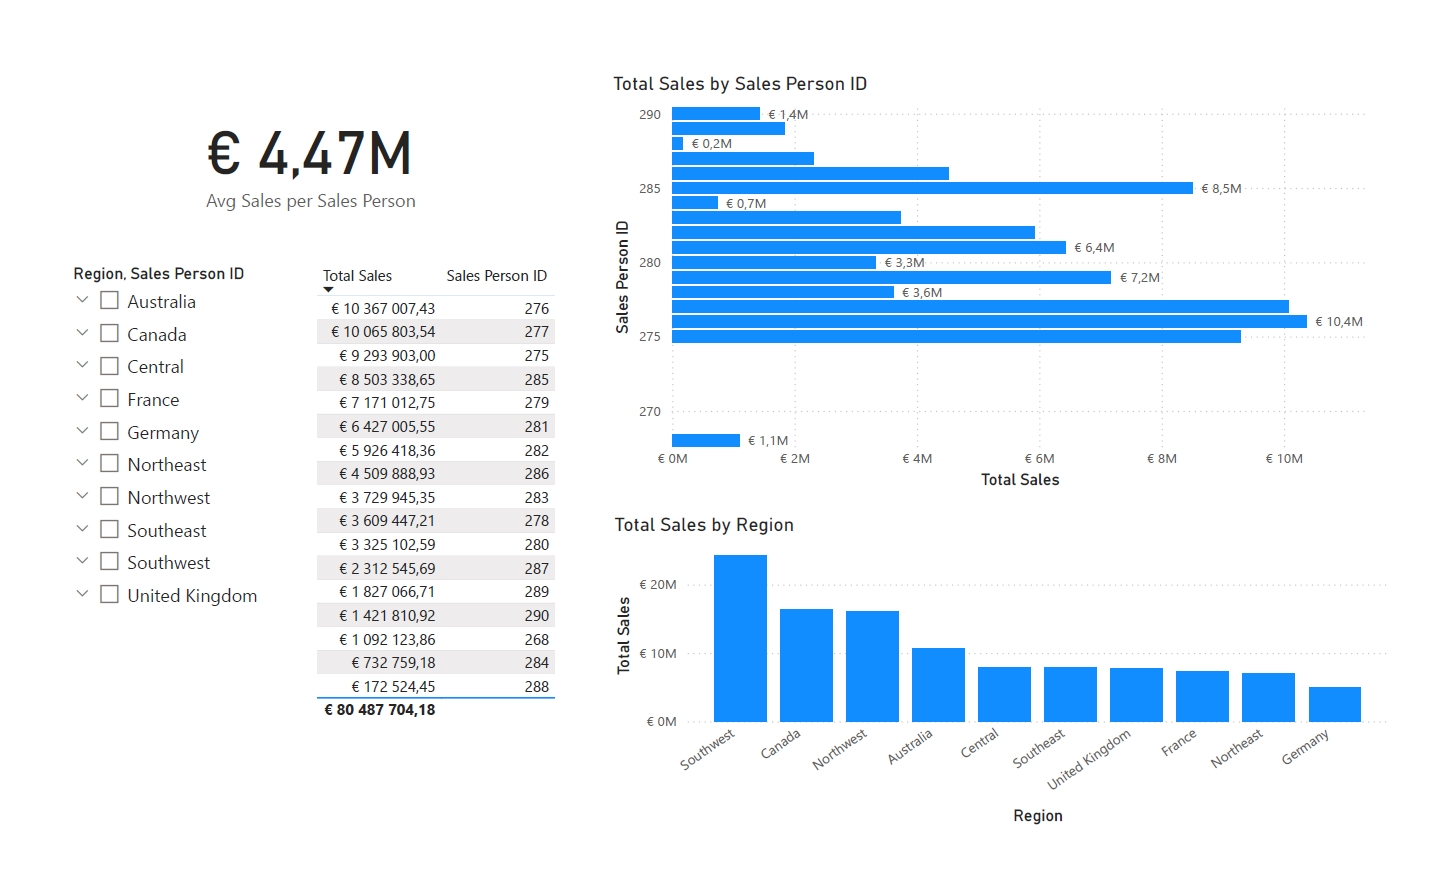

What the dashboard file says about the page in this screenshot:
{"tool":"powerbi","page":{"name":"operational","canvas":[1280,720],"ordinal":1},"visuals":[{"type":"tableEx","fields":{"Values":["Sum(Sales SalesOrderDetail.LineTotal)","Sales SalesOrderHeader.SalesPersonID"]},"box":[275.7,200.4,224.7,418.7],"z":0},{"type":"slicer","fields":{"Values":["Sales SalesTerritory.Name","Sales SalesOrderHeader.SalesPersonID"]},"box":[52.3,200.4,223.4,469.7],"z":1000},{"type":"card","fields":{"Values":["Sales SalesOrderHeader.Avg Sales per Salesperson"]},"box":[162.9,34.3,224.3,118.6],"z":2000},{"type":"clusteredBarChart","fields":{"Category":["Sales SalesOrderHeader.SalesPersonID"],"Y":["Sum(Sales SalesOrderDetail.LineTotal)"]},"box":[540,33.8,698.8,376.2],"z":3000},{"type":"clusteredColumnChart","fields":{"Y":["Sum(Sales SalesOrderDetail.LineTotal)"],"Category":["Sales SalesTerritory.Name"]},"box":[541.2,426.3,698.2,282.1],"z":4000}]}

Visuals, with their boxes on the page's 1280x720 design canvas (x1, y1, x2, y2). These are canvas units, not pixel positions in the 1441x884 screenshot, which may show the page scaled, cropped or inside an application window:
tableEx - Sum(Sales SalesOrderDetail.LineTotal) x Sales SalesOrderHeader.SalesPersonID: (276,200,500,619)
slicer - Sales SalesTerritory.Name x Sales SalesOrderHeader.SalesPersonID: (52,200,276,670)
card - Sales SalesOrderHeader.Avg Sales per Salesperson: (163,34,387,153)
clusteredBarChart - Sales SalesOrderHeader.SalesPersonID x Sum(Sales SalesOrderDetail.LineTotal): (540,34,1239,410)
clusteredColumnChart - Sum(Sales SalesOrderDetail.LineTotal) x Sales SalesTerritory.Name: (541,426,1239,708)
